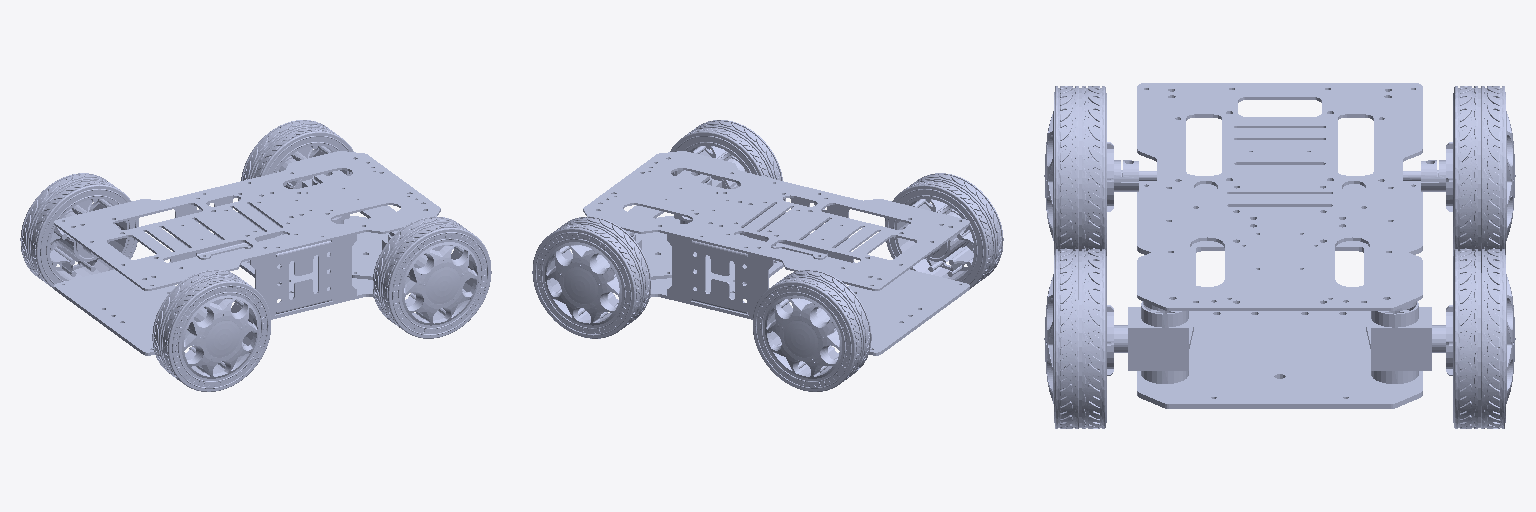
The robot description file, URDF, robot "acamana":
<?xml version="1.0" encoding="utf-8"?>
<!-- This URDF was automatically created by SolidWorks to URDF Exporter! Originally created by [author] ([email redacted]) 
     Commit Version: 1.5.1-0-g916b5db  Build Version: 1.5.7152.31018
     For more information, please see http://wiki.ros.org/sw_urdf_exporter -->
<robot
  name="acamana">
  <link
    name="base_link">
    <inertial>
      <origin
        xyz="-0.000410773784337879 -4.50102945727632E-06 0.000188079948723217"
        rpy="0 0 0" />
      <mass
        value="0.224252192432071" />
      <inertia
        ixx="0.000384367775648917"
        ixy="3.76312515381557E-08"
        ixz="-3.24905280224815E-09"
        iyy="0.00152650491504501"
        iyz="7.02452171299624E-11"
        izz="0.00189778395864725" />
    </inertial>
    <visual>
      <origin
        xyz="0 0 0"
        rpy="0 0 0" />
      <geometry>
        <mesh
          filename="package://acamana/meshes/base_link.STL" />
      </geometry>
      <material
        name="">
        <color
          rgba="0.792156862745098 0.819607843137255 0.933333333333333 1" />
      </material>
    </visual>
    <collision>
      <origin
        xyz="0 0 0"
        rpy="0 0 0" />
      <geometry>
        <mesh
          filename="package://acamana/meshes/base_link.STL" />
      </geometry>
    </collision>
  </link>
  <link
    name="left_steering_hinge">
    <inertial>
      <origin
        xyz="-0.00214055518577709 0.0114938412169271 -0.00101430442705201"
        rpy="0 0 0" />
      <mass
        value="0.019320077665136" />
      <inertia
        ixx="3.65091233921692E-06"
        ixy="-3.8359376652168E-07"
        ixz="-4.31566026293577E-07"
        iyy="4.40274174328948E-06"
        iyz="-1.57348260942121E-07"
        izz="4.35327403175562E-06" />
    </inertial>
    <visual>
      <origin
        xyz="0 0 0"
        rpy="0 0 0" />
      <geometry>
        <mesh
          filename="package://acamana/meshes/left_steering_hinge.STL" />
      </geometry>
      <material
        name="">
        <color
          rgba="0.792156862745098 0.819607843137255 0.933333333333333 1" />
      </material>
    </visual>
    <collision>
      <origin
        xyz="0 0 0"
        rpy="0 0 0" />
      <geometry>
        <mesh
          filename="package://acamana/meshes/left_steering_hinge.STL" />
      </geometry>
    </collision>
  </link>
  <joint
    name="left_steering_hinge_joint"
    type="revolute">
    <origin
      xyz="0.11123 0.063711 -0.00033469"
      rpy="0 0 0" />
    <parent
      link="base_link" />
    <child
      link="left_steering_hinge" />
    <axis
      xyz="0 0 1" />
    <limit
      lower="-0.785"
      upper="0.785"
      effort="1999.9"
      velocity="348.9" />
  </joint>
  <link
    name="left_front_wheel">
    <inertial>
      <origin
        xyz="2.69864139146314E-07 0.000974501012028089 7.43504567637335E-08"
        rpy="0 0 0" />
      <mass
        value="0.124188351717402" />
      <inertia
        ixx="0.000108426219461981"
        ixy="6.16641829591181E-10"
        ixz="6.14953076918742E-09"
        iyy="0.000198988759881268"
        iyz="-1.79345986661271E-11"
        izz="0.000108425295656723" />
    </inertial>
    <visual>
      <origin
        xyz="0 0 0"
        rpy="0 0 0" />
      <geometry>
        <mesh
          filename="package://acamana/meshes/left_front_wheel.STL" />
      </geometry>
      <material
        name="">
        <color
          rgba="0.792156862745098 0.819607843137255 0.933333333333333 1" />
      </material>
    </visual>
    <collision>
      <origin
        xyz="0 0 0"
        rpy="0 0 0" />
      <geometry>
        <mesh
          filename="package://acamana/meshes/left_front_wheel.STL" />
      </geometry>
    </collision>
  </link>
  <joint
    name="left_front_wheel_joint"
    type="continuous">
    <origin
      xyz="0 0.047063 0"
      rpy="0 0 0" />
    <parent
      link="left_steering_hinge" />
    <child
      link="left_front_wheel" />
    <axis
      xyz="0 -1 0" />
    <limit
      effort="259.9"
      velocity="529.9" />
  </joint>
  <link
    name="right_steering_hinge">
    <inertial>
      <origin
        xyz="-0.00214065668285346 -0.0114939743395863 -0.00101615028127726"
        rpy="0 0 0" />
      <mass
        value="0.0193185139789688" />
      <inertia
        ixx="3.6507224134391E-06"
        ixy="3.83677614862953E-07"
        ixz="-4.31474916495668E-07"
        iyy="4.40170253054901E-06"
        iyz="1.57666090581151E-07"
        izz="4.3530528940828E-06" />
    </inertial>
    <visual>
      <origin
        xyz="0 0 0"
        rpy="0 0 0" />
      <geometry>
        <mesh
          filename="package://acamana/meshes/right_steering_hinge.STL" />
      </geometry>
      <material
        name="">
        <color
          rgba="0.792156862745098 0.819607843137255 0.933333333333333 1" />
      </material>
    </visual>
    <collision>
      <origin
        xyz="0 0 0"
        rpy="0 0 0" />
      <geometry>
        <mesh
          filename="package://acamana/meshes/right_steering_hinge.STL" />
      </geometry>
    </collision>
  </link>
  <joint
    name="right_steering_hinge_joint"
    type="revolute">
    <origin
      xyz="0.11123 -0.063711 -0.00033469"
      rpy="0 0 0" />
    <parent
      link="base_link" />
    <child
      link="right_steering_hinge" />
    <axis
      xyz="0 0 -1" />
    <limit
      lower="-0.785"
      upper="0.785"
      effort="1999.9"
      velocity="348.9" />
  </joint>
  <link
    name="right_front_wheel">
    <inertial>
      <origin
        xyz="-1.550417727883E-06 -0.000974395825432128 2.48294778512344E-06"
        rpy="0 0 0" />
      <mass
        value="0.124186468008551" />
      <inertia
        ixx="0.0001084386658304"
        ixy="8.2849214966896E-10"
        ixz="2.08769584709537E-08"
        iyy="0.000199003281991997"
        iyz="1.53854417197541E-09"
        izz="0.00010842819433505" />
    </inertial>
    <visual>
      <origin
        xyz="0 0 0"
        rpy="0 0 0" />
      <geometry>
        <mesh
          filename="package://acamana/meshes/right_front_wheel.STL" />
      </geometry>
      <material
        name="">
        <color
          rgba="0.792156862745098 0.819607843137255 0.933333333333333 1" />
      </material>
    </visual>
    <collision>
      <origin
        xyz="0 0 0"
        rpy="0 0 0" />
      <geometry>
        <mesh
          filename="package://acamana/meshes/right_front_wheel.STL" />
      </geometry>
    </collision>
  </link>
  <joint
    name="right_front_wheel_joint"
    type="continuous">
    <origin
      xyz="0 -0.047063 0"
      rpy="0 0 0" />
    <parent
      link="right_steering_hinge" />
    <child
      link="right_front_wheel" />
    <axis
      xyz="0 -1 0" />
    <limit
      effort="259.9"
      velocity="529.9" />
  </joint>
  <link
    name="left_rear_wheel">
    <inertial>
      <origin
        xyz="1.48678928679757E-06 0.000974279188147756 -2.39603507424775E-06"
        rpy="0 0 0" />
      <mass
        value="0.124185768823433" />
      <inertia
        ixx="0.000108447186828646"
        ixy="9.3356109022442E-10"
        ixz="-7.51084978124662E-09"
        iyy="0.000198999670249457"
        iyz="2.67909684507298E-10"
        izz="0.000108415507605727" />
    </inertial>
    <visual>
      <origin
        xyz="0 0 0"
        rpy="0 0 0" />
      <geometry>
        <mesh
          filename="package://acamana/meshes/left_rear_wheel.STL" />
      </geometry>
      <material
        name="">
        <color
          rgba="0.792156862745098 0.819607843137255 0.933333333333333 1" />
      </material>
    </visual>
    <collision>
      <origin
        xyz="0 0 0"
        rpy="0 0 0" />
      <geometry>
        <mesh
          filename="package://acamana/meshes/left_rear_wheel.STL" />
      </geometry>
    </collision>
  </link>
  <joint
    name="left_rear_wheel_joint"
    type="continuous">
    <origin
      xyz="-0.1021 0.11077 0"
      rpy="0 0 0" />
    <parent
      link="base_link" />
    <child
      link="left_rear_wheel" />
    <axis
      xyz="0 1 0" />
    <limit
      effort="259.9"
      velocity="529.9" />
  </joint>
  <link
    name="right_rear_wheel">
    <inertial>
      <origin
        xyz="1.49354641822141E-06 -0.000974859994966409 -2.34500844404229E-06"
        rpy="0 0 0" />
      <mass
        value="0.12418629538773" />
      <inertia
        ixx="0.000108447659615878"
        ixy="8.73156228173837E-10"
        ixz="-8.57721842762821E-09"
        iyy="0.000199000738710147"
        iyz="3.07367743094142E-10"
        izz="0.000108416160865518" />
    </inertial>
    <visual>
      <origin
        xyz="0 0 0"
        rpy="0 0 0" />
      <geometry>
        <mesh
          filename="package://acamana/meshes/right_rear_wheel.STL" />
      </geometry>
      <material
        name="">
        <color
          rgba="0.792156862745098 0.819607843137255 0.933333333333333 1" />
      </material>
    </visual>
    <collision>
      <origin
        xyz="0 0 0"
        rpy="0 0 0" />
      <geometry>
        <mesh
          filename="package://acamana/meshes/right_rear_wheel.STL" />
      </geometry>
    </collision>
  </link>
  <joint
    name="right_rear_wheel_joint"
    type="continuous">
    <origin
      xyz="-0.1021 -0.11077 0"
      rpy="0 0 0" />
    <parent
      link="base_link" />
    <child
      link="right_rear_wheel" />
    <axis
      xyz="0 -1 0" />
    <limit
      effort="259.9"
      velocity="529.9" />
  </joint>
</robot>

--- What the picture shows (computed from the rendered views, not written in the file) ---
The picture shows the robot from 3 angles, left to right: view 1: azimuth 30°, elevation 25°; view 2: azimuth 150°, elevation 25°; view 3: azimuth 270°, elevation 25°; orthographic projection.
Model acamana with 7 links and 6 joints (2 revolute, 4 continuous), rooted at base_link, posed all joints at 0.
Links seen in each view (by area): view 1: base_link, right_front_wheel, right_rear_wheel, left_rear_wheel, left_front_wheel; view 2: base_link, left_front_wheel, left_rear_wheel, right_rear_wheel, right_front_wheel; view 3: base_link, left_front_wheel, right_front_wheel, left_rear_wheel, right_rear_wheel, left_steering_hinge, right_steering_hinge.
Link boxes in pixels (box(x1,y1,x2,y2)): base_link: box(54, 151, 440, 355); right_front_wheel: box(373, 216, 491, 338); right_rear_wheel: box(152, 270, 270, 391); left_rear_wheel: box(20, 173, 138, 288); left_front_wheel: box(241, 120, 353, 235); base_link: box(583, 151, 969, 355); left_front_wheel: box(532, 216, 650, 338); left_rear_wheel: box(753, 270, 871, 391); right_rear_wheel: box(885, 173, 1003, 288); right_front_wheel: box(670, 120, 782, 235); base_link: box(1114, 83, 1445, 408); left_front_wheel: box(1446, 249, 1515, 428); right_front_wheel: box(1044, 249, 1113, 428); left_rear_wheel: box(1446, 86, 1515, 255); right_rear_wheel: box(1044, 86, 1113, 255); left_steering_hinge: box(1366, 301, 1445, 383); right_steering_hinge: box(1114, 301, 1193, 383).
Bounding box of the posed robot: 0.3133 × 0.2611 × 0.1003 m (x, y, z).
7 mesh visuals loaded from 7 distinct referenced files (7 binary STL).
